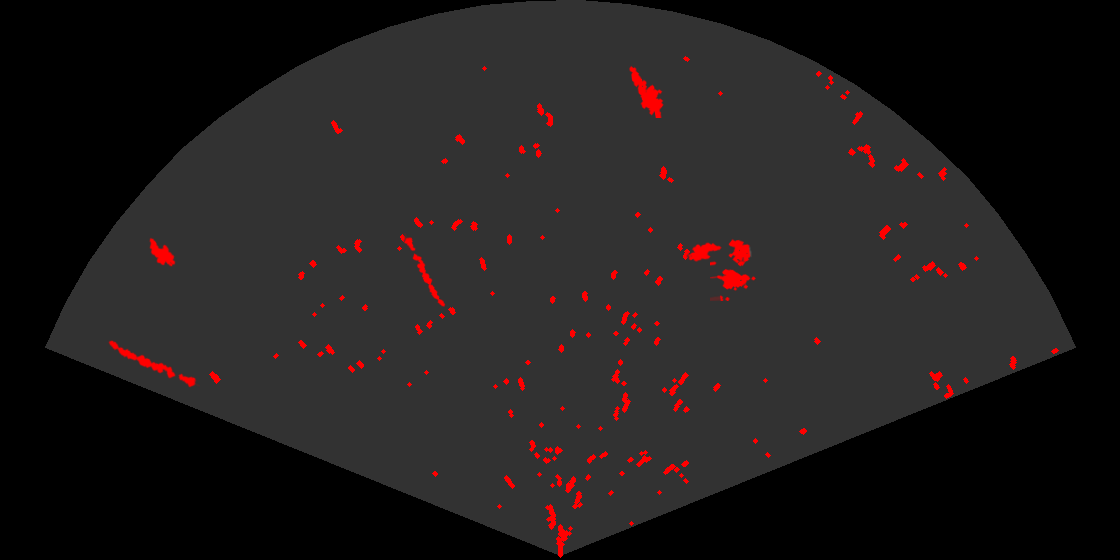AUV: (148, 236, 177, 268), (686, 241, 723, 264)
cage: (710, 237, 757, 301)
chain: (107, 339, 200, 389), (402, 233, 447, 308)
frogman: (628, 64, 665, 118)
